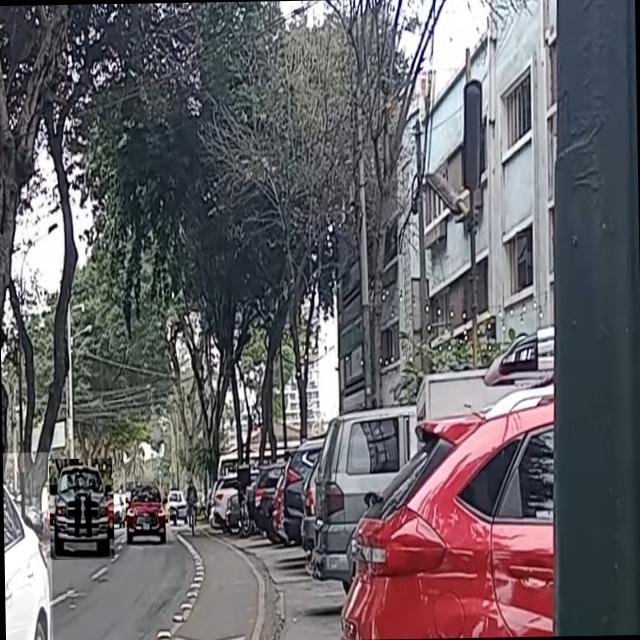bicycle: (182, 475, 200, 532)
car: (2, 451, 52, 640), (49, 458, 114, 560), (125, 481, 170, 546)
